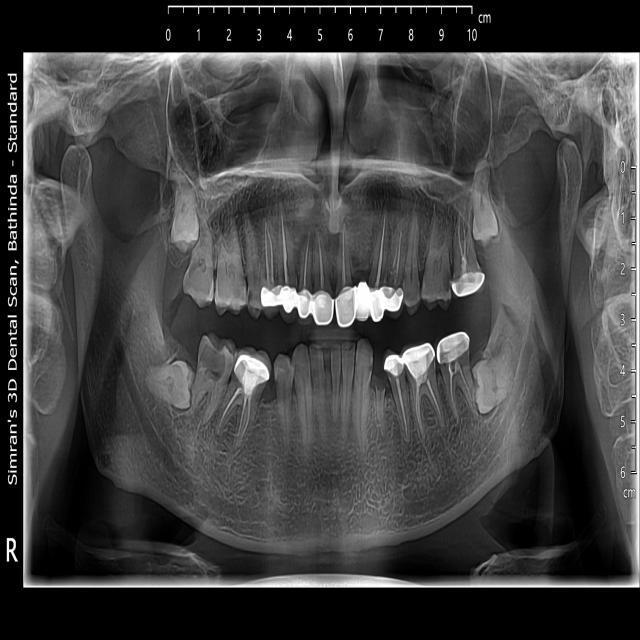dentin-curugu: (197, 339, 230, 383), (429, 254, 459, 301)
kanal-tedavisi: (222, 384, 253, 452), (409, 374, 445, 430), (275, 213, 297, 280), (445, 364, 474, 413), (452, 202, 472, 269), (259, 216, 278, 282), (394, 383, 415, 441), (374, 208, 389, 282), (335, 227, 352, 287), (388, 222, 405, 282), (296, 230, 312, 287), (314, 234, 330, 288)
kaplama: (236, 350, 270, 394), (434, 328, 471, 366), (452, 264, 488, 298), (404, 343, 437, 377), (335, 280, 357, 326), (310, 284, 335, 324), (381, 278, 405, 314), (380, 347, 406, 378), (370, 284, 388, 326), (296, 283, 317, 319), (278, 282, 298, 316), (262, 281, 284, 309)
kirik: (373, 366, 391, 399)
